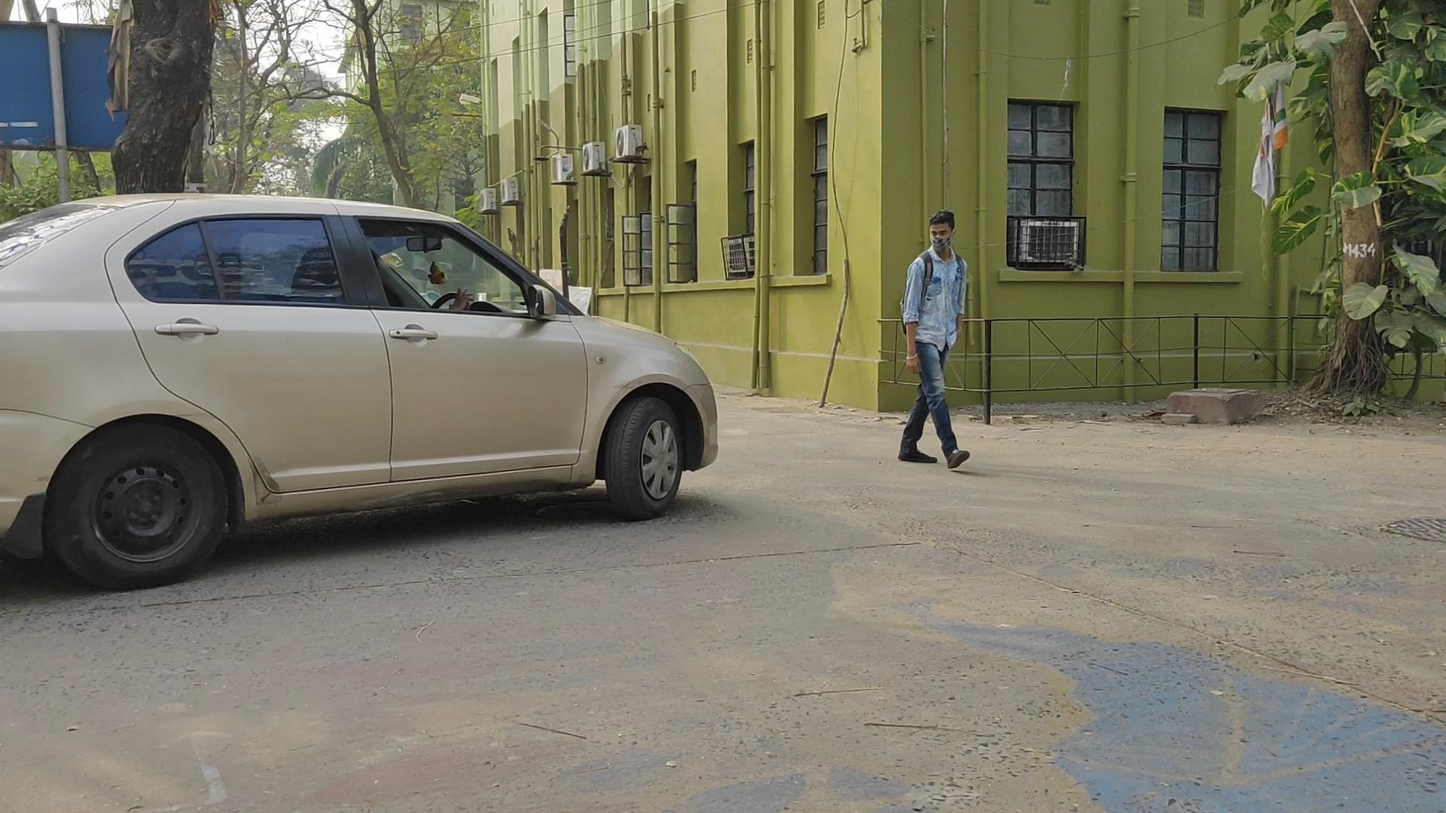car: (2, 193, 721, 590)
